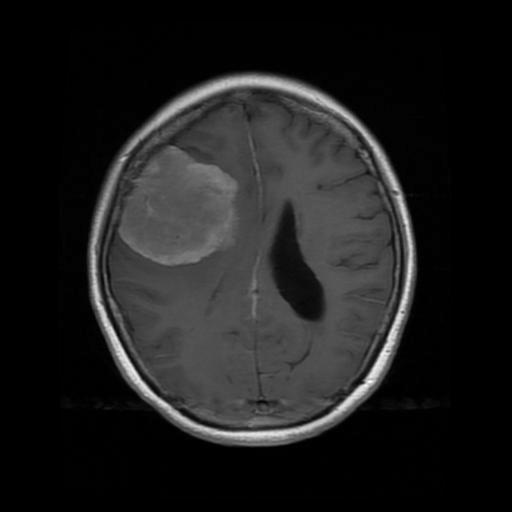Tumour-Pituitary: (127, 140, 252, 290)
